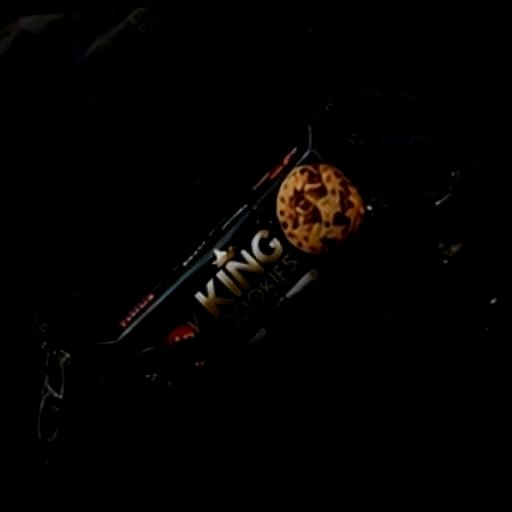king-cooking: (79, 66, 421, 406)
